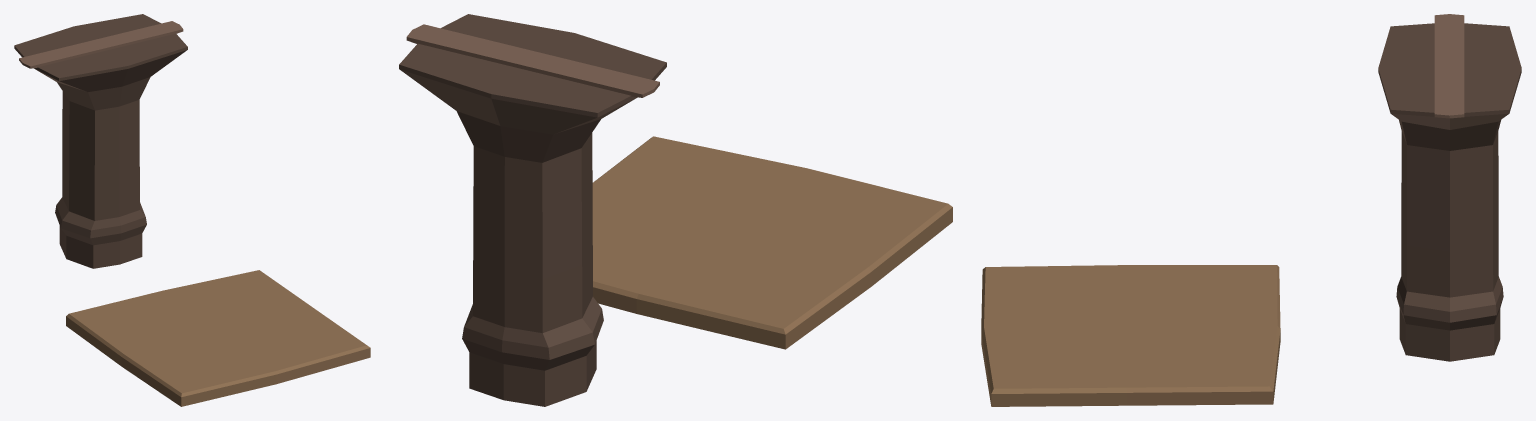
Rendered from Podest.fbx.
The picture shows the model from 3 angles, left to right: view 1: azimuth 30°, elevation 25°; view 2: azimuth 150°, elevation 25°; view 3: azimuth 270°, elevation 25°; orthographic projection. The views are drawn at different scales.
Visible parts, largest first — view 1: Podest_falle, Podest_schiene, Podest_Sockel; view 2: Podest_falle, Podest_schiene, Podest_Sockel; view 3: Podest_falle, Podest_schiene, Podest_Sockel.
Part boxes in pixels (<box>): Podest_falle: <box>66,270,370,406</box>; Podest_schiene: <box>14,14,187,268</box>; Podest_Sockel: <box>19,21,183,68</box>; Podest_falle: <box>592,136,952,349</box>; Podest_schiene: <box>399,14,666,406</box>; Podest_Sockel: <box>406,24,659,97</box>; Podest_falle: <box>981,265,1280,406</box>; Podest_schiene: <box>1378,23,1521,361</box>; Podest_Sockel: <box>1434,14,1464,118</box>.
Size of the model in its own units: 100 by 103 by 180.
